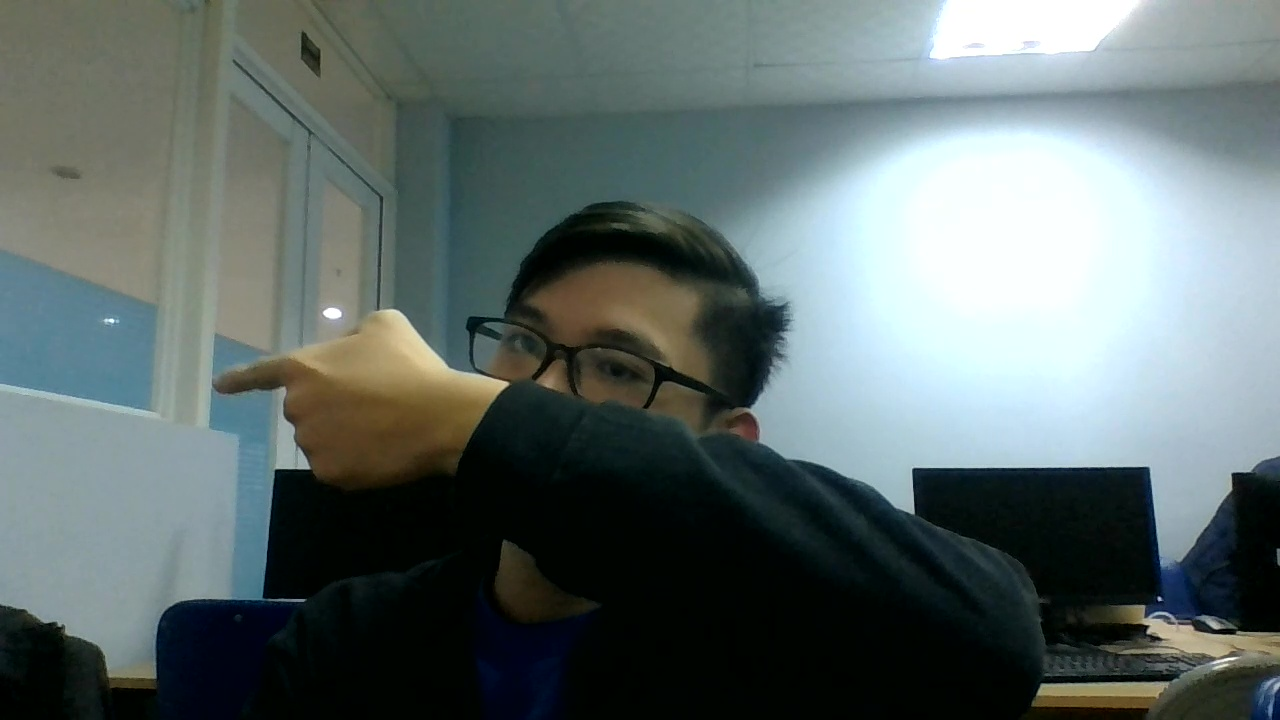right: (215, 308, 463, 501)
